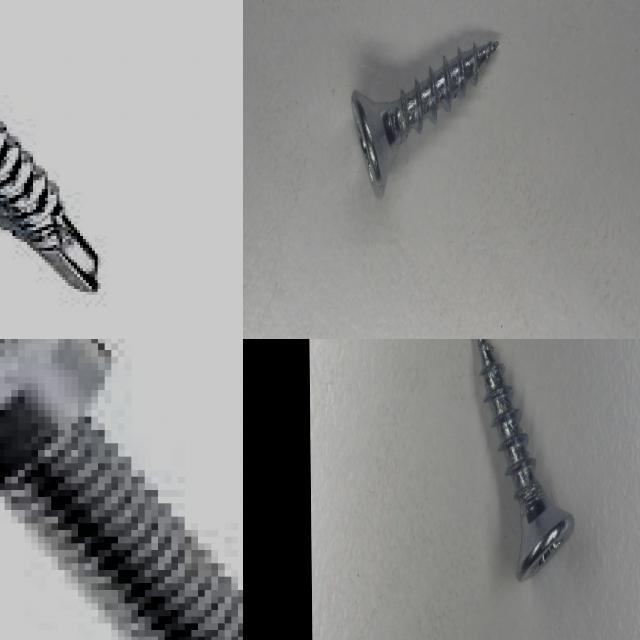Screw: (0, 339, 243, 640), (478, 339, 574, 581), (351, 41, 498, 197)
